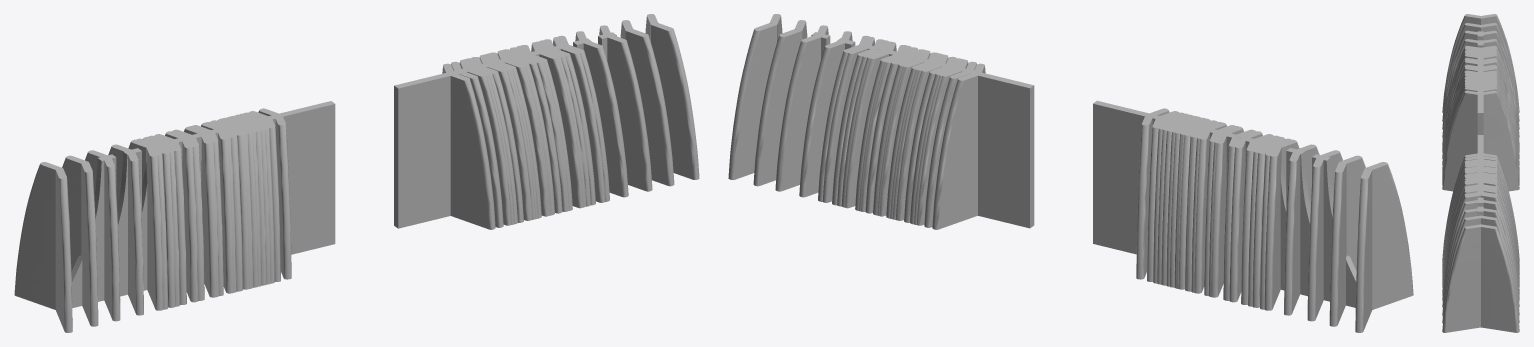
The model's file is Triple.glb.
3 renders of one model, left to right at view 1: azimuth 30°, elevation 25°; view 2: azimuth 150°, elevation 25°; view 3: azimuth 270°, elevation 25°, orthographic. The views are drawn at different scales.
Parts seen in each view (by area): view 1: Verbaan_Triple_LEG, Rectangle_Triple_LEG, Boat_Triple_LEG, Oval_Triple_LEG, Organic_Triple_LEG; view 2: Verbaan_Triple_LEG, Boat_Triple_LEG, Rectangle_Triple_LEG, Organic_Triple_LEG, Oval_Triple_LEG; view 3: Verbaan_Triple_LEG, Rectangle_Triple_LEG, Organic_Triple_LEG, Boat_Triple_LEG, Oval_Triple_LEG.
Part boxes in pixels (<box>): Verbaan_Triple_LEG: <box>14,16,698,332</box>; Rectangle_Triple_LEG: <box>14,14,699,332</box>; Boat_Triple_LEG: <box>62,20,674,326</box>; Oval_Triple_LEG: <box>143,39,595,307</box>; Organic_Triple_LEG: <box>210,47,562,291</box>; Verbaan_Triple_LEG: <box>728,16,1413,332</box>; Boat_Triple_LEG: <box>753,20,1365,326</box>; Rectangle_Triple_LEG: <box>728,14,1407,332</box>; Organic_Triple_LEG: <box>865,47,1217,291</box>; Oval_Triple_LEG: <box>832,39,1284,307</box>; Verbaan_Triple_LEG: <box>1442,14,1519,332</box>; Rectangle_Triple_LEG: <box>1442,14,1519,332</box>; Organic_Triple_LEG: <box>1442,76,1519,282</box>; Boat_Triple_LEG: <box>1442,23,1519,323</box>; Oval_Triple_LEG: <box>1442,50,1519,295</box>.
Size of the model in its own units: 3.42 by 0.7232 by 0.5042.
Materials: 6 (6 with a texture image).
